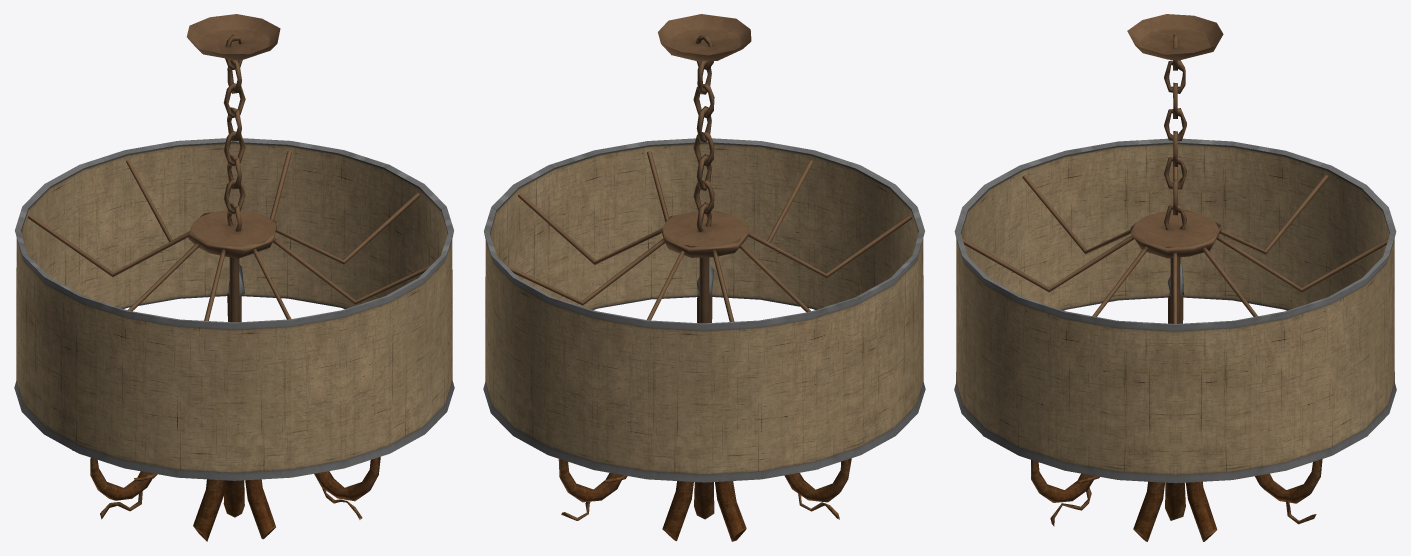
Rendered from SM_Avize_2.FBX.
3 views of the same model, side by side, from view 1: azimuth 30°, elevation 25°; view 2: azimuth 150°, elevation 25°; view 3: azimuth 270°, elevation 25° (orthographic).
Visible parts, largest first — view 1: SM_Avize_2; view 2: SM_Avize_2; view 3: SM_Avize_2.
Part boxes in pixels (x1=…): SM_Avize_2: x1=14, y1=14, x2=454, y2=541; SM_Avize_2: x1=483, y1=14, x2=925, y2=541; SM_Avize_2: x1=954, y1=14, x2=1396, y2=541.
Bounding box in the file's own units: 73.19 × 73.19 × 91.38.
